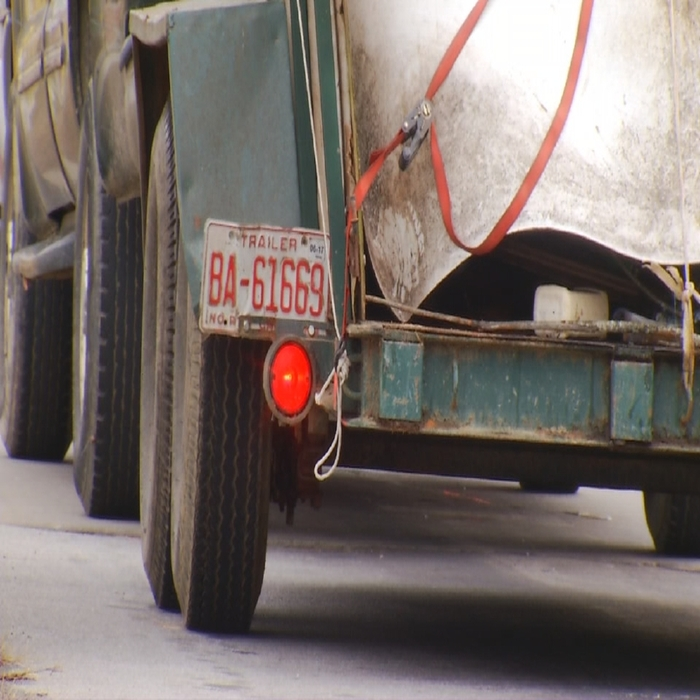n: (205, 221, 332, 336)
